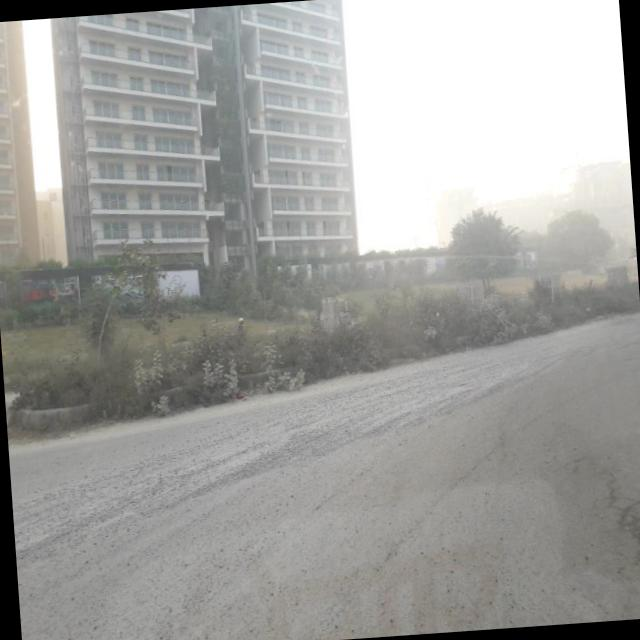crack: (557, 426, 640, 571)
pothole: (337, 370, 620, 586)
